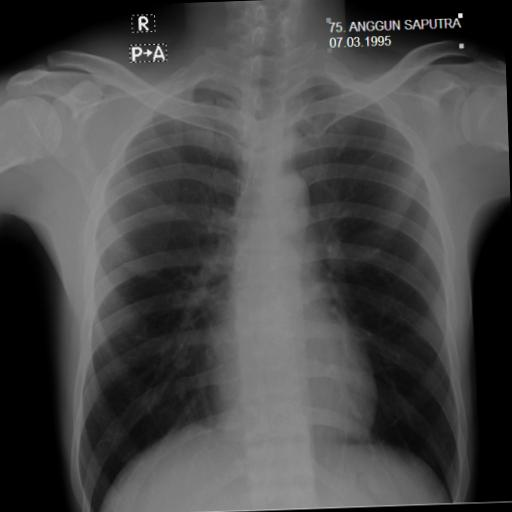normal: (41, 30, 476, 512)
